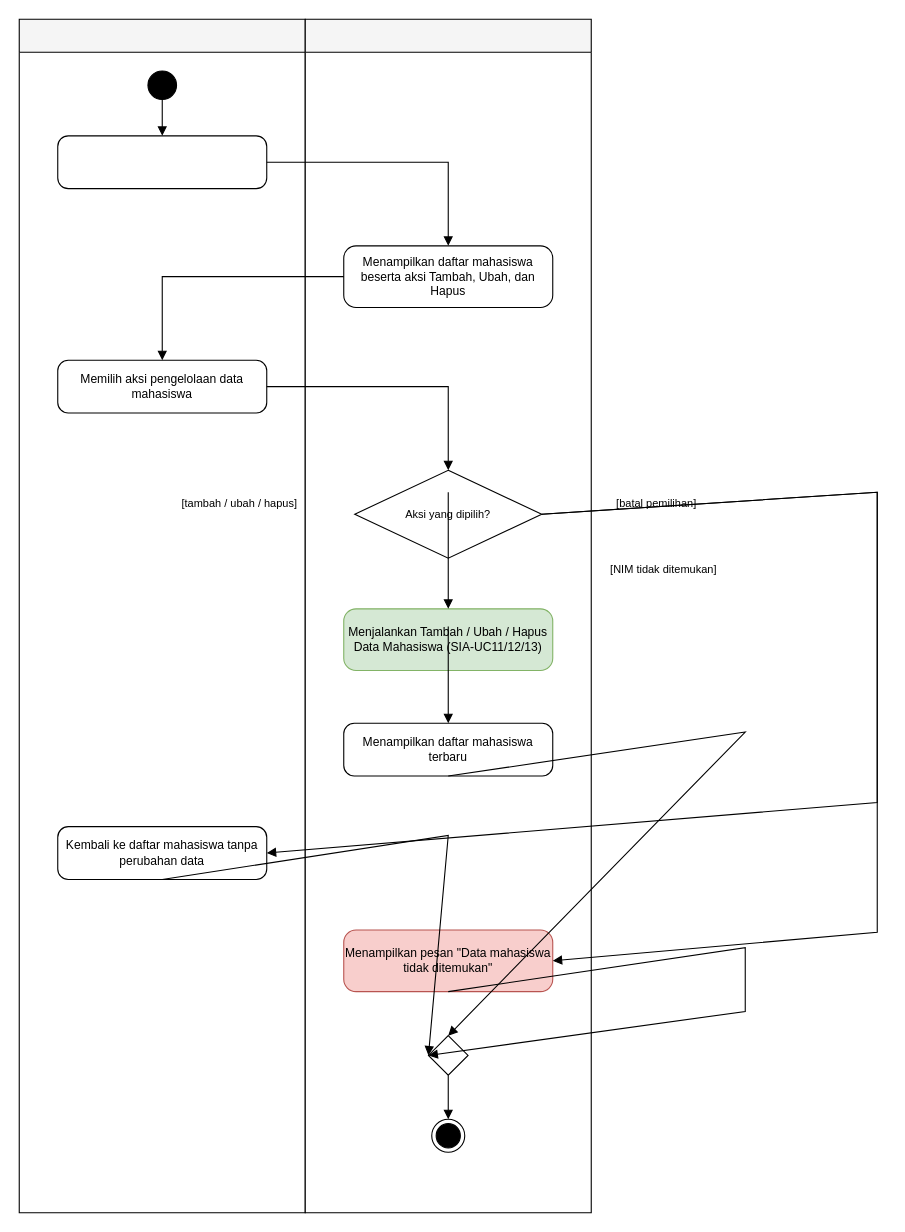
Image size: 905x1232. Some labels were removed from this diagram. Here are the shapes that lost their labels. From the top down, the box of each, then its label:
(57, 135, 267, 189): Membuka fungsi Kelola Data Mahasiswa
(18, 18, 305, 1213): Admin Akademik
(304, 18, 591, 1213): Sistem
